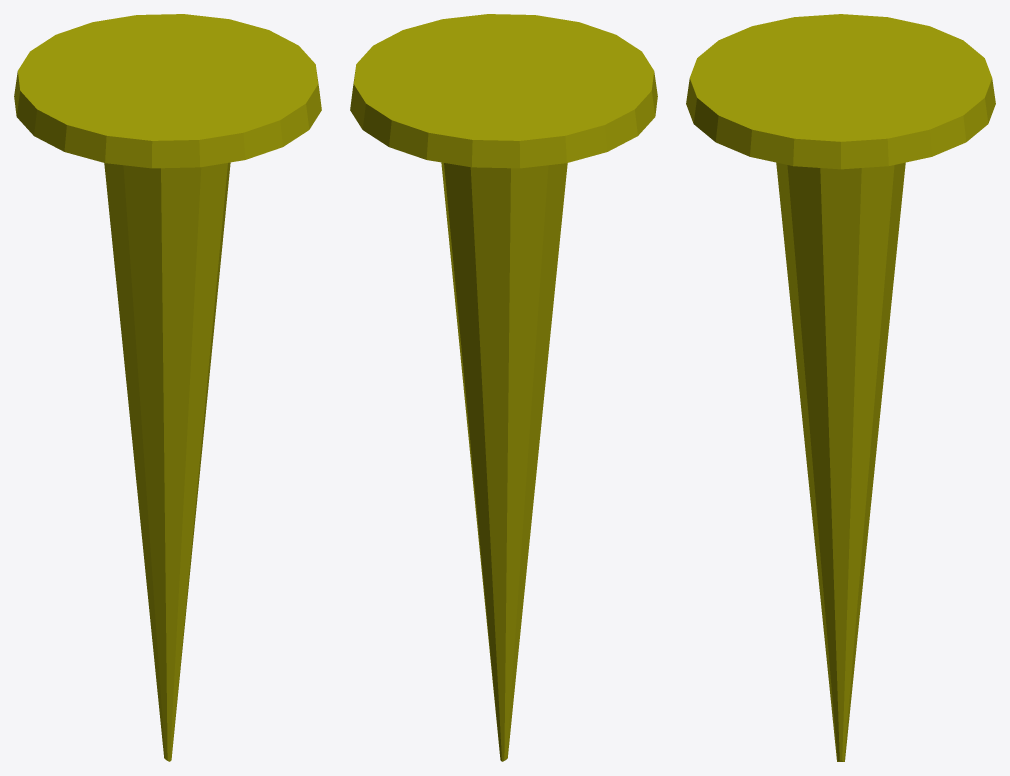
The model's file is Pin.fbx.
The picture shows the model from 3 angles, left to right: view 1: azimuth 30°, elevation 25°; view 2: azimuth 150°, elevation 25°; view 3: azimuth 270°, elevation 25°; orthographic projection.
Visible parts, largest first — view 1: LevelUpPin; view 2: LevelUpPin; view 3: LevelUpPin.
Boxes of the visible parts, <box> form: LevelUpPin: <box>14,14,321,761</box>; LevelUpPin: <box>350,14,657,761</box>; LevelUpPin: <box>686,14,995,761</box>.
Size of the model in its own units: 5.18 by 12.61 by 5.18.
